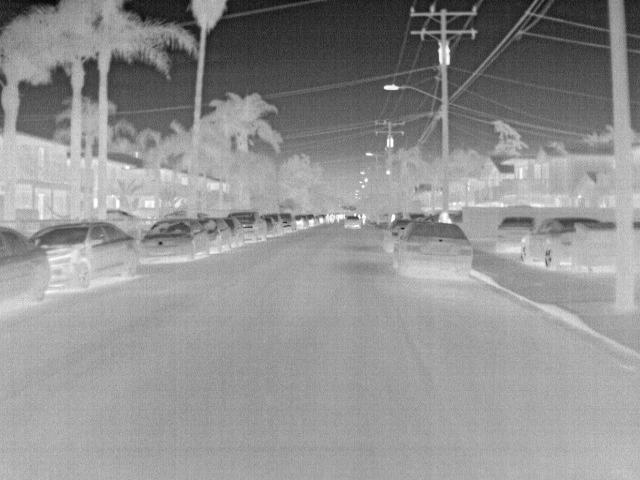car: (27, 223, 140, 290), (390, 221, 475, 283), (520, 216, 602, 266), (2, 223, 49, 309), (140, 222, 208, 262), (492, 218, 536, 253), (201, 216, 234, 250), (382, 220, 416, 252), (230, 212, 266, 242), (224, 216, 244, 246), (340, 212, 362, 229), (278, 213, 296, 230), (265, 216, 278, 237), (304, 213, 318, 228), (294, 214, 306, 228)
person: (437, 210, 453, 224)
